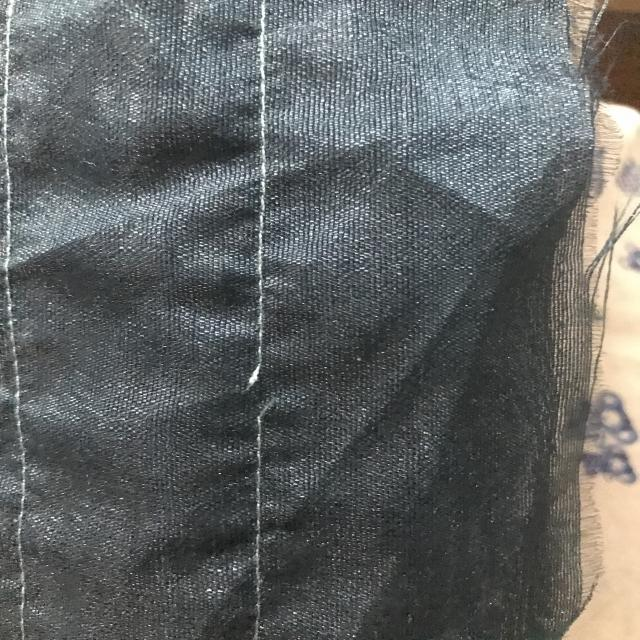broken: (231, 353, 292, 430)
good: (242, 191, 284, 305), (245, 459, 273, 564)
